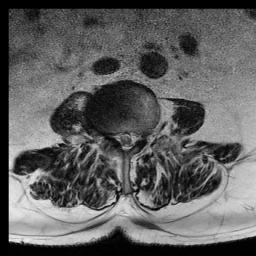CCS_normal: (122, 125, 130, 157)
LFS_stenosis: (137, 124, 144, 147)
LLS_normal: (130, 125, 137, 151)
RFS_severe_stenosis: (107, 122, 114, 146)
RLS_normal: (114, 123, 122, 152)
